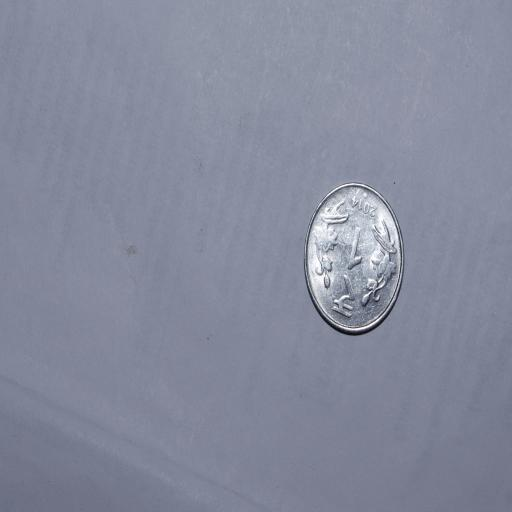rupee1: (303, 183, 403, 334)
